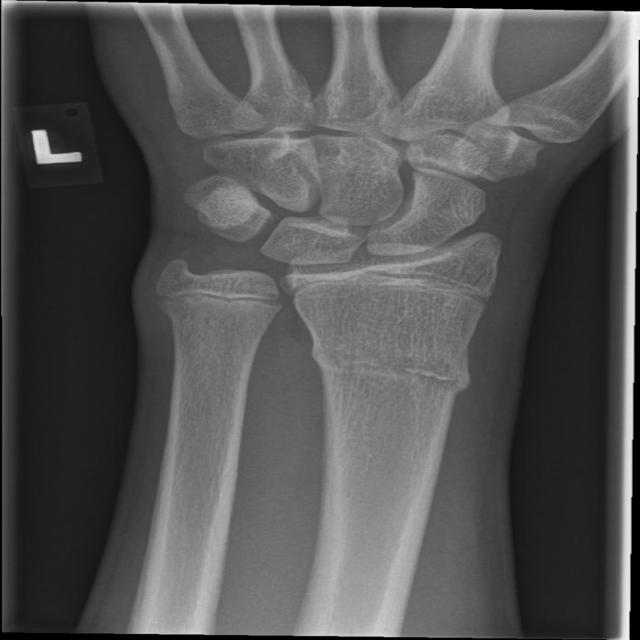fracture: (273, 259, 513, 319), (290, 341, 486, 402), (143, 280, 290, 324)
